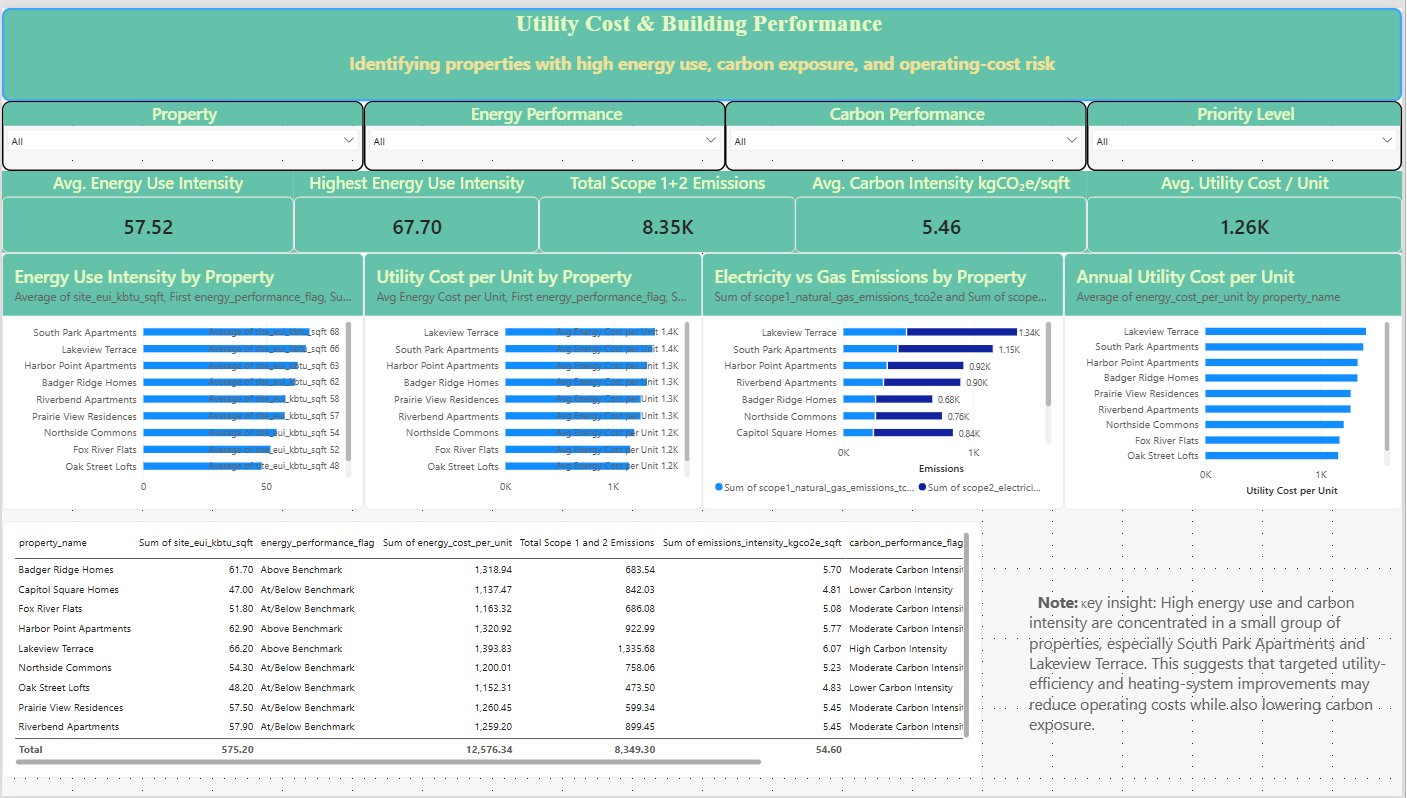

Layout of this report page (visuals, bound fields, positions):
{"tool":"powerbi","page":{"name":"Utility Performance & Operating Cost Risk","canvas":[1920,1080],"ordinal":1},"visuals":[{"type":"textbox","box":[0,0,1920,128],"z":0},{"type":"slicer","title":"Property","fields":{"Values":["01_input_asset_master.property_name"]},"box":[0,128,496,96],"z":1000},{"type":"slicer","title":"Energy Performance","fields":{"Values":["15_calc_integrated_priority (3).overall_priority_flag","15_calc_integrated_priority.energy_performance_flag"]},"box":[496,128,496,96],"z":2000},{"type":"slicer","title":"Carbon Performance","fields":{"Values":["15_calc_integrated_priority (3).overall_priority_flag","15_calc_integrated_priority.carbon_performance_flag"]},"box":[992,128,496,96],"z":3000},{"type":"slicer","title":"Priority Level","fields":{"Values":["15_calc_integrated_priority (3).overall_priority_flag"]},"box":[1488,128,432,96],"z":4000},{"type":"cardVisual","title":"Avg. Energy Use Intensity","fields":{"Data":["15_calc_integrated_priority (3).Avg Energy Use Intensity"]},"box":[0,224,400,112],"z":5000},{"type":"cardVisual","title":"Avg. Utility Cost / Unit","fields":{"Data":["15_calc_integrated_priority (3).Avg Energy Cost per Unit"]},"box":[1488,224,432,112],"z":6000},{"type":"cardVisual","title":"Highest Energy Use Intensity","fields":{"Data":["15_calc_integrated_priority (3).Highest Energy Use Intensity"]},"box":[400,224,336,112],"z":7000},{"type":"cardVisual","title":"Total Scope 1+2 Emissions","fields":{"Data":["15_calc_integrated_priority (3).Total Scope 1 and 2 Emissions"]},"box":[736,224,352,112],"z":8000},{"type":"cardVisual","title":"Avg. Carbon Intensity kgCO₂e/sqft","fields":{"Data":["15_calc_integrated_priority (3).Avg Carbon Intensity"]},"box":[1088,224,400,112],"z":9000},{"type":"clusteredBarChart","title":"Energy Use Intensity by Property","fields":{"Category":["15_calc_integrated_priority (3).property_name"],"Y":["Avg(15_calc_integrated_priority (3).site_eui_kbtu_sqft)"]},"box":[0,336,496,352],"z":10000},{"type":"clusteredBarChart","title":"Utility Cost per Unit by Property","fields":{"Category":["15_calc_integrated_priority (3).property_name"],"Y":["15_calc_integrated_priority (3).Avg Energy Cost per Unit"]},"box":[496,336,464,352],"z":11000},{"type":"barChart","title":"Electricity vs Gas Emissions by Property","fields":{"Category":["15_calc_integrated_priority (3).property_name"],"Y":["Sum(14_calc_emissions_summary (2).scope1_natural_gas_emissions_tco2e)","Sum(14_calc_emissions_summary (2).scope2_electricity_emissions_tco2e)"]},"box":[960,336,496,352],"z":12000},{"type":"clusteredBarChart","title":"Annual Utility Cost per Unit","fields":{"Category":["15_calc_integrated_priority (3).property_name"],"Y":["Avg(15_calc_integrated_priority.energy_cost_per_unit)"]},"box":[1456,336,464,352],"z":13000},{"type":"tableEx","fields":{"Values":["15_calc_integrated_priority (3).property_name","Sum(15_calc_integrated_priority (3).site_eui_kbtu_sqft)","15_calc_integrated_priority (3).energy_performance_flag","Sum(15_calc_integrated_priority (3).energy_cost_per_unit)","15_calc_integrated_priority (3).Total Scope 1 and 2 Emissions","Sum(15_calc_integrated_priority (3).emissions_intensity_kgco2e_sqft)","15_calc_integrated_priority.carbon_performance_flag","Sum(14_calc_emissions_summary (3).scope2_share_pct)","Sum(14_calc_emissions_summary (3).scope1_share_pct)"]},"box":[0,704,1344,352],"z":14000},{"type":"textbox","box":[1408,800,512,256],"z":15000}]}

Visuals, with their boxes in screenshot pixels (x1, y1, x2, y2), scaled from the page's 1920x1080 canvas onto the 1407x798 screenshot:
textbox: [x1=0, y1=0, x2=1406, y2=95]
"Property" slicer: [x1=0, y1=95, x2=363, y2=166]
"Energy Performance" slicer: [x1=363, y1=95, x2=727, y2=166]
"Carbon Performance" slicer: [x1=727, y1=95, x2=1090, y2=166]
"Priority Level" slicer: [x1=1090, y1=95, x2=1406, y2=166]
"Avg. Energy Use Intensity" cardVisual: [x1=0, y1=166, x2=293, y2=248]
"Avg. Utility Cost / Unit" cardVisual: [x1=1090, y1=166, x2=1406, y2=248]
"Highest Energy Use Intensity" cardVisual: [x1=293, y1=166, x2=539, y2=248]
"Total Scope 1+2 Emissions" cardVisual: [x1=539, y1=166, x2=797, y2=248]
"Avg. Carbon Intensity kgCO₂e/sqft" cardVisual: [x1=797, y1=166, x2=1090, y2=248]
"Energy Use Intensity by Property" clusteredBarChart: [x1=0, y1=248, x2=363, y2=508]
"Utility Cost per Unit by Property" clusteredBarChart: [x1=363, y1=248, x2=704, y2=508]
"Electricity vs Gas Emissions by Property" barChart: [x1=704, y1=248, x2=1067, y2=508]
"Annual Utility Cost per Unit" clusteredBarChart: [x1=1067, y1=248, x2=1406, y2=508]
tableEx - 15_calc_integrated_priority (3).property_name x Sum(15_calc_integrated_priority (3).site_eui_kbtu_sqft): [x1=0, y1=520, x2=985, y2=780]
textbox: [x1=1032, y1=591, x2=1406, y2=780]
